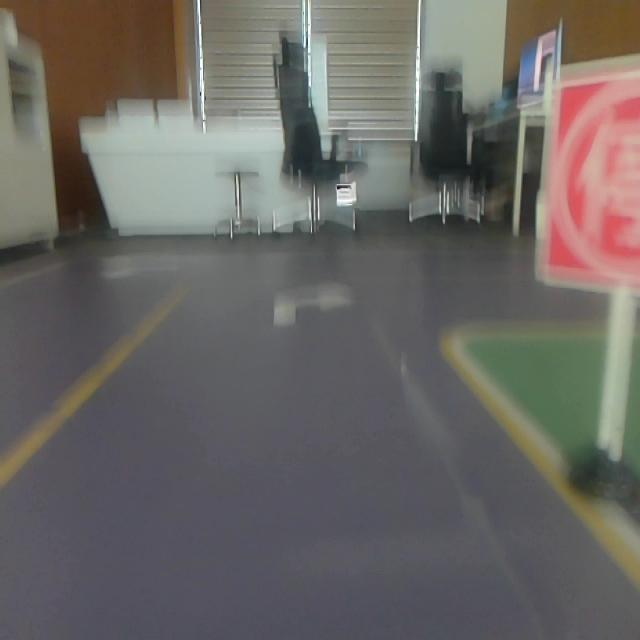left_lane: (0, 288, 187, 492)
right_lane: (446, 346, 640, 589)
